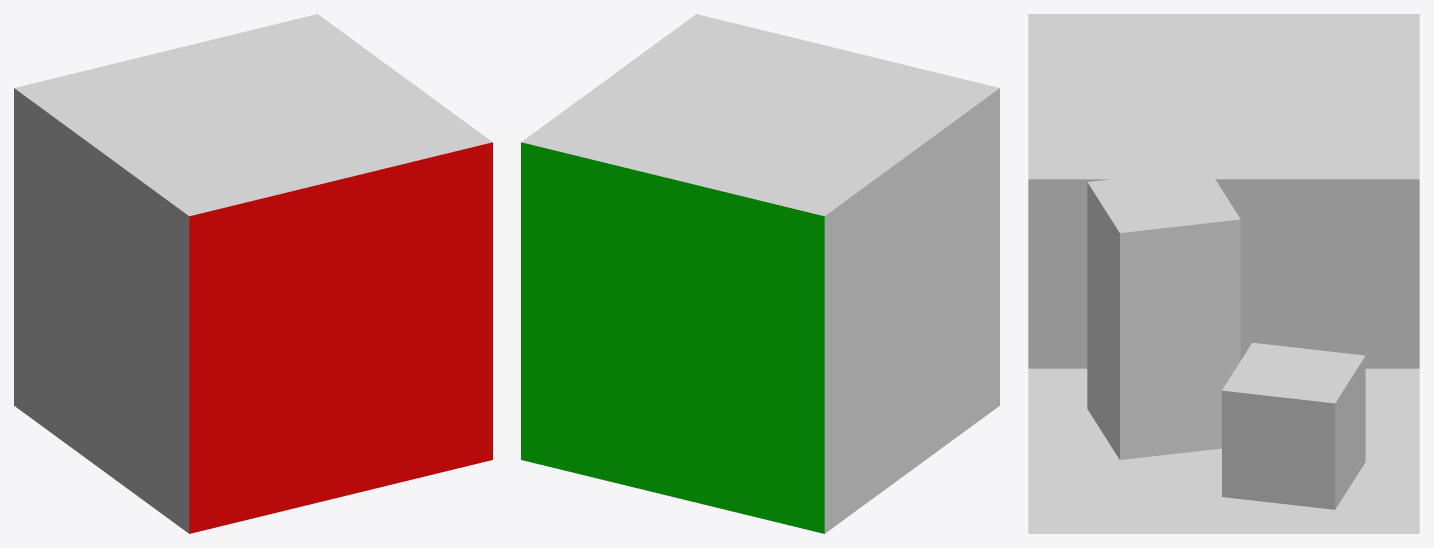
File: cornell_box.gltf
The picture shows the model from 3 angles, left to right: view 1: azimuth 30°, elevation 25°; view 2: azimuth 150°, elevation 25°; view 3: azimuth 270°, elevation 25°; orthographic projection. The views are drawn at different scales.
Visible parts, largest first — view 1: body_wall, left_wall; view 2: body_wall, right_wall; view 3: body_wall, tall_box, box.
Boxes of the visible parts, box(x1,y1,x2,y2) form: body_wall: box(14, 14, 492, 533); left_wall: box(189, 142, 492, 533); body_wall: box(521, 14, 999, 533); right_wall: box(521, 142, 824, 533); body_wall: box(1028, 14, 1419, 533); tall_box: box(1087, 179, 1240, 459); box: box(1222, 342, 1365, 509).
Size of the model in its own units: 2.5 by 2.5 by 2.5.
